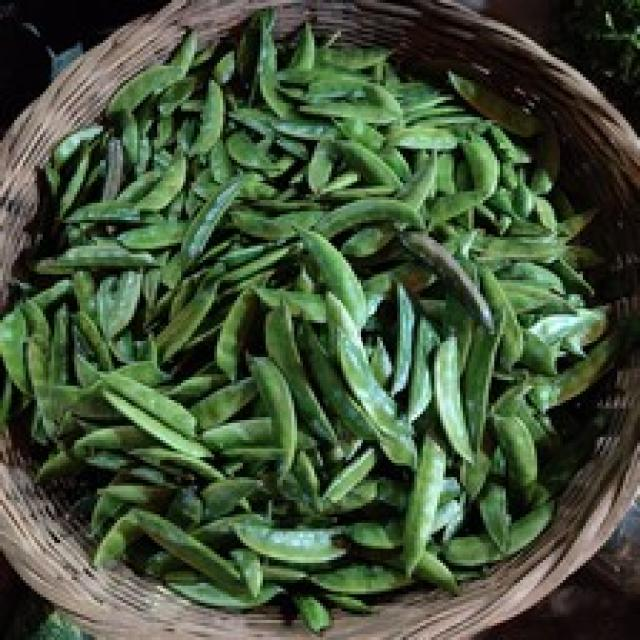Bean: (0, 5, 614, 634)
